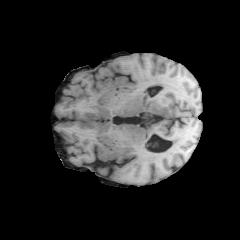glioma: (143, 78, 170, 116)
